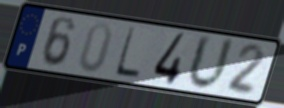0: (77, 20, 115, 75)
2: (224, 42, 266, 99)
4: (151, 30, 188, 88)
6: (40, 15, 78, 70)
L: (112, 25, 143, 82)
U: (185, 32, 237, 93)
